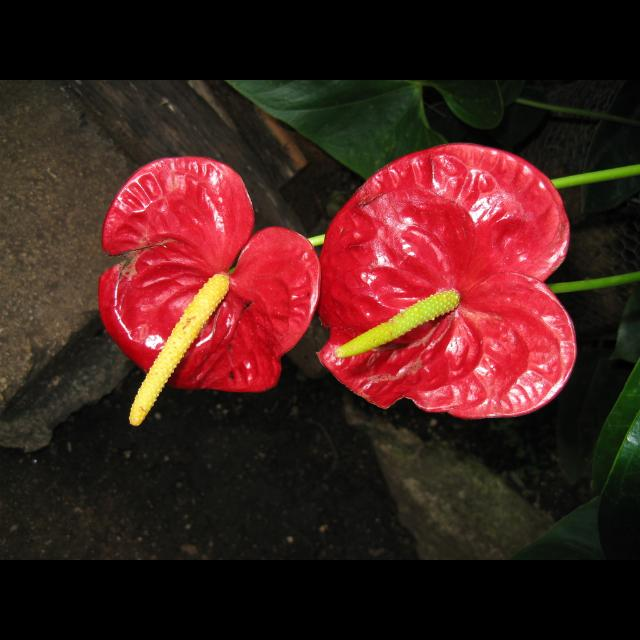Flower: (96, 157, 320, 425), (309, 176, 556, 416)
